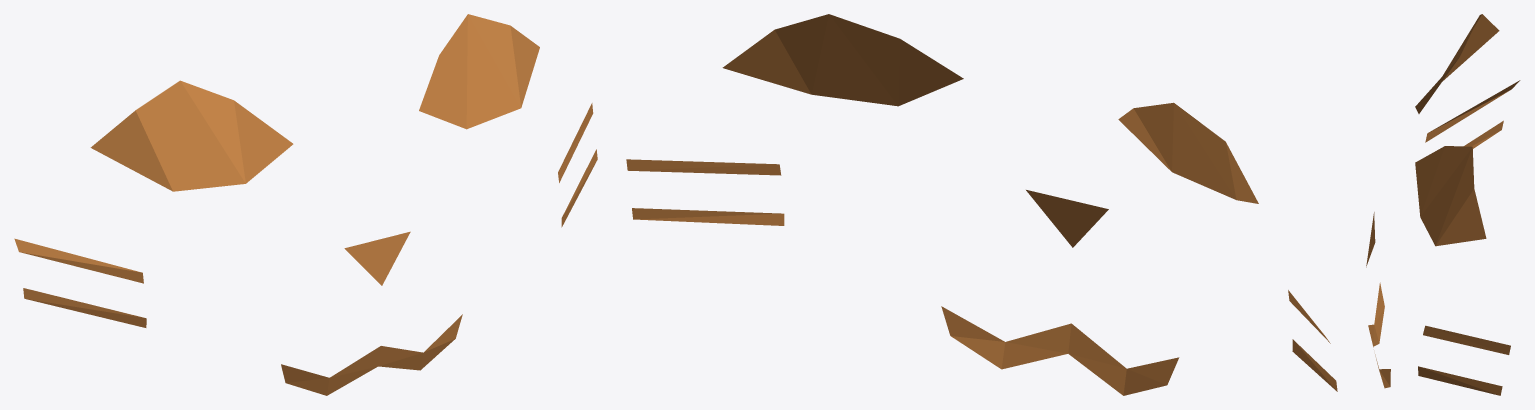
Rendered from EVHalloween_Decor_JackOLanternCat_Glow3.fbx.
3 renders of one model, left to right at view 1: azimuth 30°, elevation 25°; view 2: azimuth 150°, elevation 25°; view 3: azimuth 270°, elevation 25°, orthographic. The views are drawn at different scales.
Parts seen in each view (by area): view 1: EVHalloween_Decor_PumpkinOrange; view 2: EVHalloween_Decor_PumpkinOrange; view 3: EVHalloween_Decor_PumpkinOrange.
Part boxes in pixels (x1,y1,x2,y2): EVHalloween_Decor_PumpkinOrange: (14,14,597,395); EVHalloween_Decor_PumpkinOrange: (626,14,1337,395); EVHalloween_Decor_PumpkinOrange: (1366,14,1520,395).
Bounding box in the file's own units: 23.8 × 11.9 × 5.86.
